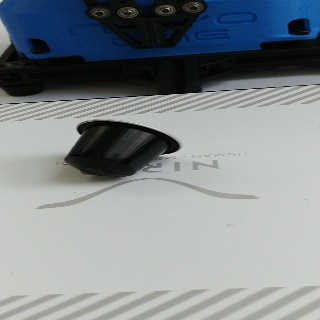capsule_10: (64, 118, 183, 178)
